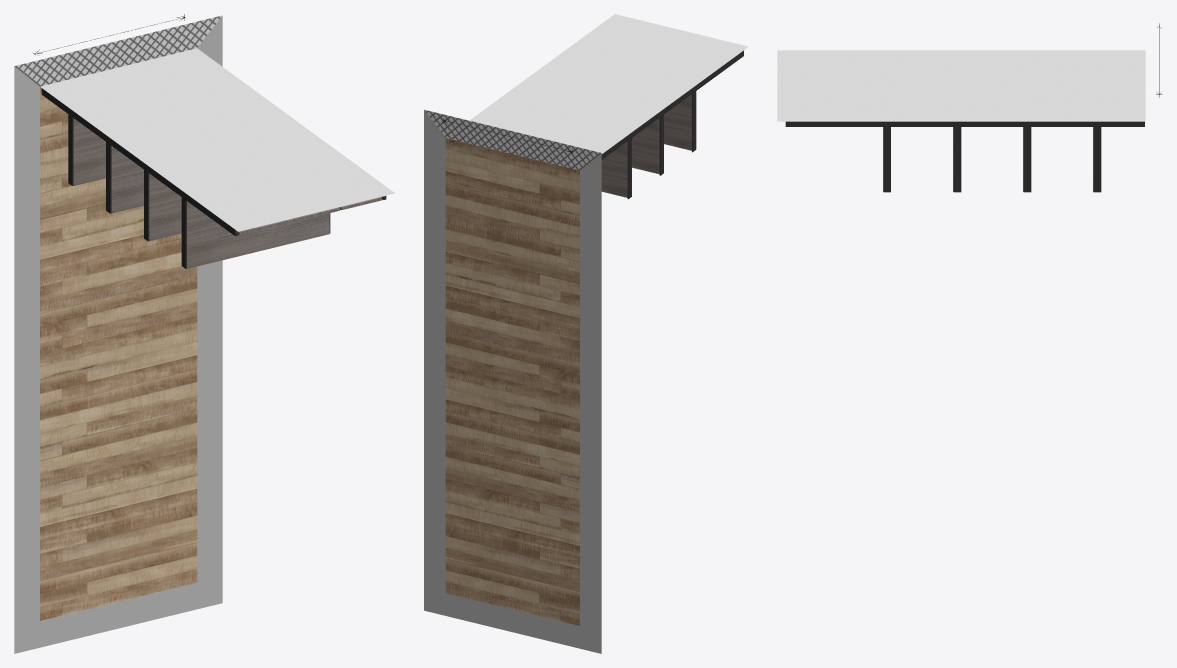
The model's file is C2 Media + D1 Media V3 SC.OBJ.
3 views of the same model, side by side, from view 1: azimuth 30°, elevation 25°; view 2: azimuth 150°, elevation 25°; view 3: azimuth 270°, elevation 25° (orthographic). The views are drawn at different scales.
Visible parts, largest first — view 1: Object_62, Object_63, Object_70, Object_66, Object_68, Object_64, Object_57, Object_42, Object_47, Object_52, Object_2; view 2: Object_62, Object_63, Object_70, Object_66, Object_64, Object_68, Object_52, Object_57, Object_47, Object_2; view 3: Object_63, Object_34, Object_46, Object_51, Object_56.
Boxes of the visible parts, left/top/right/bottom form: Object_62: left=40, top=87, right=197, bottom=620; Object_63: left=40, top=48, right=395, bottom=231; Object_70: left=14, top=66, right=39, bottom=653; Object_66: left=197, top=16, right=222, bottom=602; Object_68: left=14, top=583, right=222, bottom=653; Object_64: left=14, top=15, right=222, bottom=86; Object_57: left=186, top=201, right=329, bottom=268; Object_42: left=73, top=118, right=105, bottom=185; Object_47: left=111, top=146, right=143, bottom=213; Object_52: left=149, top=173, right=181, bottom=241; Object_2: left=41, top=88, right=238, bottom=236; Object_62: left=445, top=138, right=579, bottom=625; Object_63: left=469, top=14, right=748, bottom=153; Object_70: left=580, top=153, right=601, bottom=653; Object_66: left=424, top=110, right=445, bottom=610; Object_64: left=424, top=110, right=600, bottom=170; Object_68: left=424, top=593, right=601, bottom=653; Object_52: left=632, top=118, right=659, bottom=174; Object_57: left=664, top=94, right=691, bottom=150; Object_47: left=601, top=141, right=627, bottom=197; Object_2: left=601, top=50, right=743, bottom=159; Object_63: left=777, top=50, right=1145, bottom=121; Object_34: left=785, top=121, right=1144, bottom=126; Object_46: left=1093, top=127, right=1101, bottom=192; Object_51: left=1023, top=127, right=1031, bottom=192; Object_56: left=953, top=127, right=961, bottom=192.
Bounding box in the file's own units: 1632 × 4425 × 2817.
11 materials, 11 textured.
